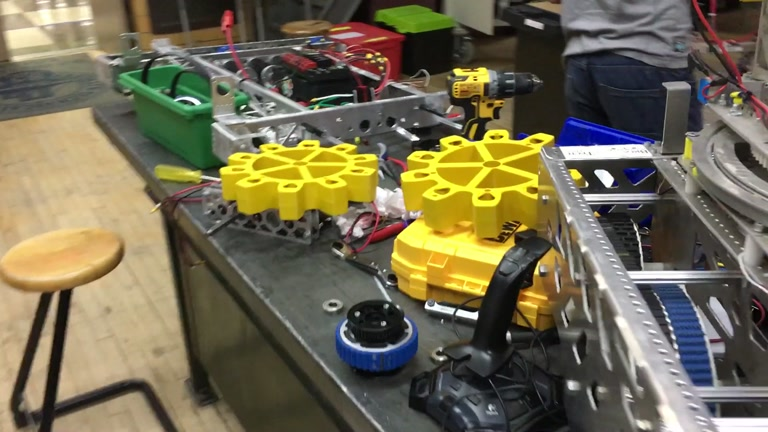gear: (399, 128, 588, 237), (220, 140, 381, 222)
